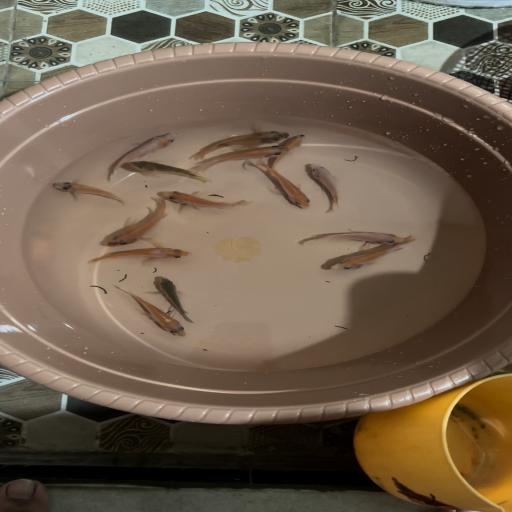nila: (92, 286, 197, 340), (93, 198, 178, 249), (98, 129, 179, 179), (316, 243, 423, 280), (300, 159, 364, 214), (192, 145, 292, 179), (190, 121, 292, 152), (145, 274, 210, 322), (243, 169, 322, 206), (40, 177, 136, 207), (153, 188, 260, 214), (127, 157, 215, 188), (82, 246, 190, 270), (282, 228, 408, 244), (270, 133, 322, 165)
